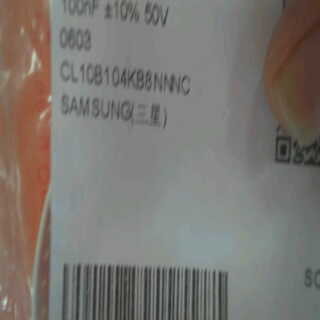100nF: (58, 1, 96, 13)
